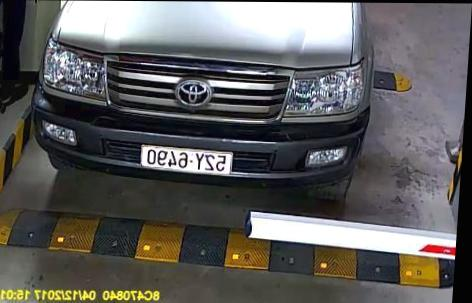License_Plate: (143, 143, 233, 175)
